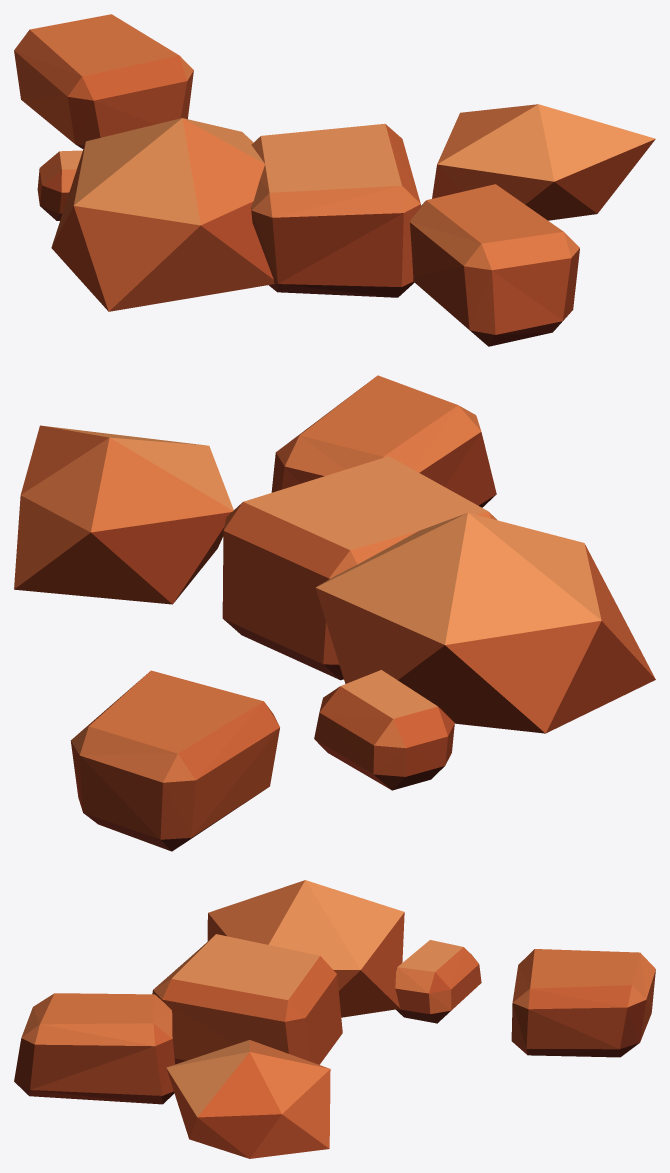
File: SM_ROCK_DEBRIS_01.fbx
3 renders of one model, top to bottom at view 1: azimuth 30°, elevation 25°; view 2: azimuth 150°, elevation 25°; view 3: azimuth 270°, elevation 25°, orthographic. The views are drawn at different scales.
Visible parts, largest first — view 1: ROCK_DEBRIS_01; view 2: ROCK_DEBRIS_01; view 3: ROCK_DEBRIS_01.
Part boxes in pixels (left/top/right/bottom): ROCK_DEBRIS_01: left=14, top=14, right=655, bottom=346; ROCK_DEBRIS_01: left=14, top=375, right=655, bottom=851; ROCK_DEBRIS_01: left=14, top=880, right=655, bottom=1158.
Size of the model in its own units: 0.931 by 1.15 by 0.252.
